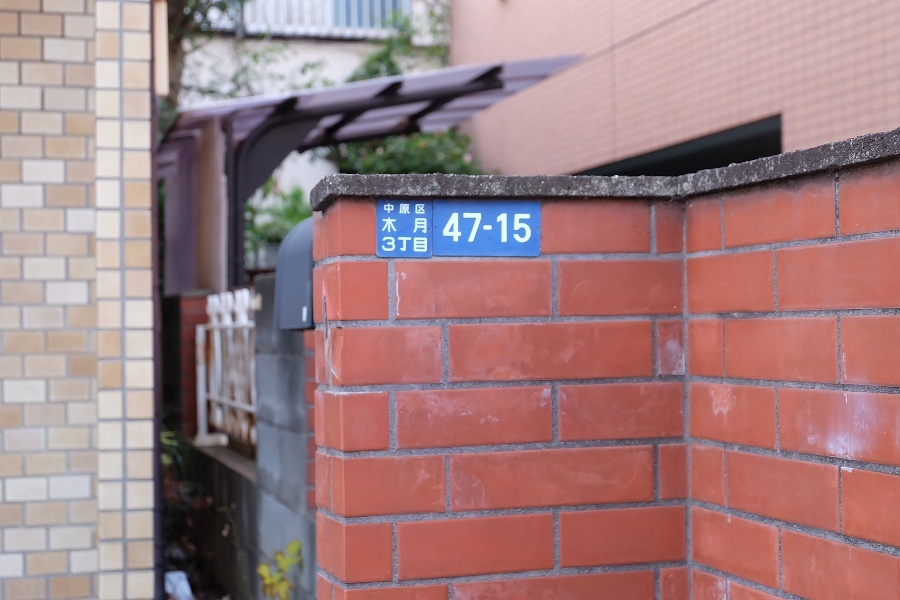text: (449, 213, 464, 244), (465, 213, 480, 244), (481, 213, 496, 244), (497, 213, 512, 244), (513, 213, 528, 244), (385, 237, 400, 253), (401, 237, 416, 253), (385, 217, 398, 234), (442, 213, 448, 244), (417, 237, 428, 253), (385, 204, 400, 215), (401, 204, 416, 215), (417, 218, 427, 234), (529, 213, 533, 244), (417, 204, 426, 215), (413, 218, 416, 234), (382, 237, 384, 253), (383, 217, 384, 234)
